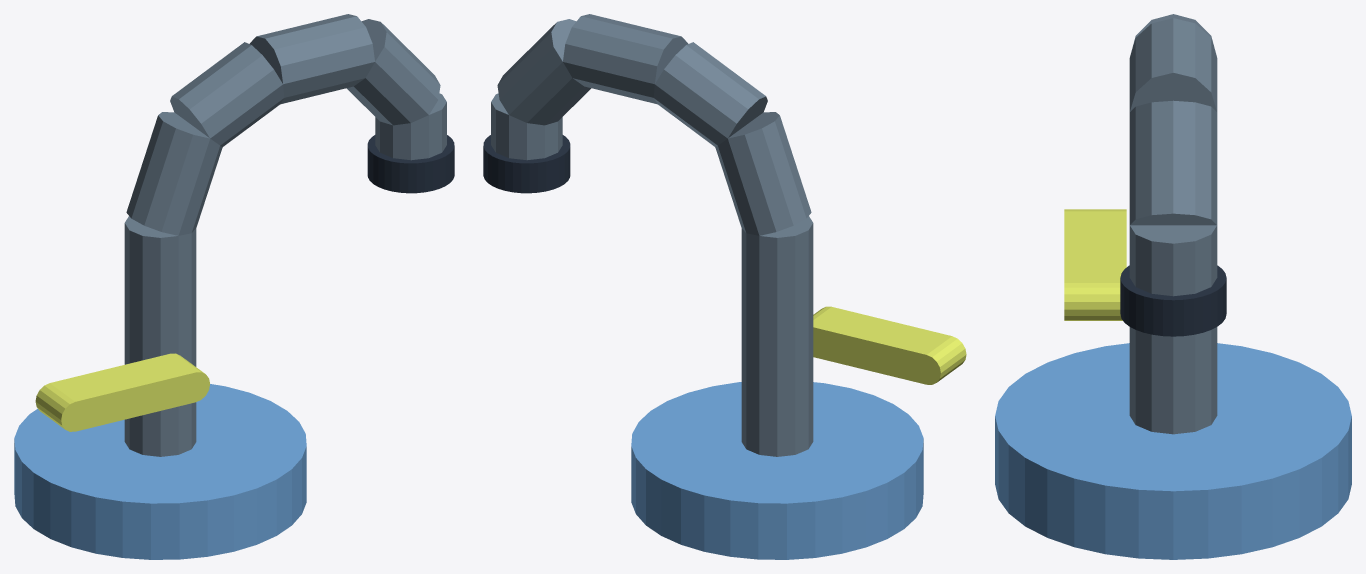
File: faucet.glb
3 views of the same model, side by side, from view 1: azimuth 30°, elevation 25°; view 2: azimuth 150°, elevation 25°; view 3: azimuth 270°, elevation 25° (orthographic). The views are drawn at different scales.
Visible parts, largest first — view 1: base, pipe0, lever, pipe1, pipe3, pipe2, pipe4, outlet, pipe5; view 2: base, pipe0, lever, pipe1, pipe3, pipe2, pipe4, outlet, pipe5; view 3: base, pipe4, pipe0, pipe3, lever, pipe5, outlet.
Part boxes in pixels (box(x1,y1,x2,y2)): base: box(14, 384, 306, 559); pipe0: box(124, 216, 196, 456); lever: box(35, 353, 209, 431); pipe1: box(126, 112, 222, 235); pipe3: box(249, 14, 374, 104); pipe2: box(170, 42, 284, 146); pipe4: box(347, 19, 440, 125); outlet: box(367, 135, 454, 193); pipe5: box(375, 93, 446, 160); base: box(631, 382, 923, 559); pipe0: box(741, 216, 813, 456); lever: box(813, 306, 966, 384); pipe1: box(715, 112, 811, 235); pipe3: box(563, 14, 688, 104); pipe2: box(653, 42, 767, 146); pipe4: box(497, 19, 590, 125); outlet: box(483, 135, 570, 193); pipe5: box(491, 93, 562, 160); base: box(995, 343, 1351, 559); pipe4: box(1129, 100, 1217, 225); pipe0: box(1129, 327, 1217, 434); pipe3: box(1129, 18, 1217, 111); lever: box(1064, 209, 1126, 320); pipe5: box(1129, 225, 1217, 296); outlet: box(1120, 265, 1226, 336).
Size of the model in its own units: 1.36 by 1.31 by 0.8.
